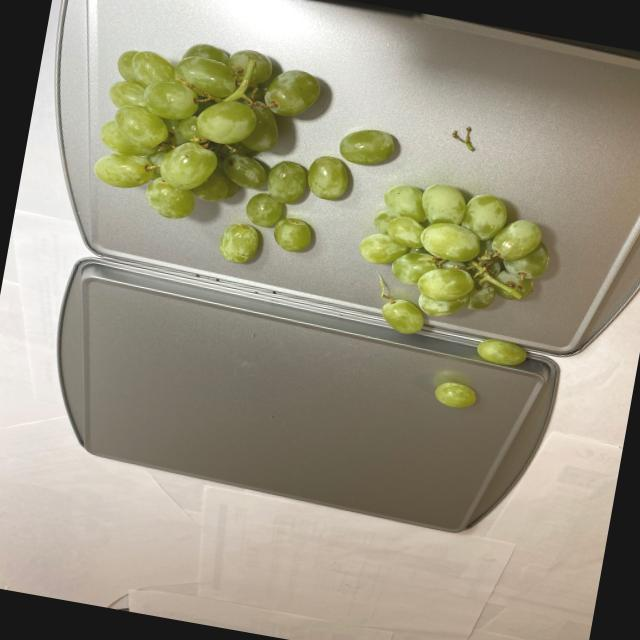grapes: (58, 22, 574, 419)
